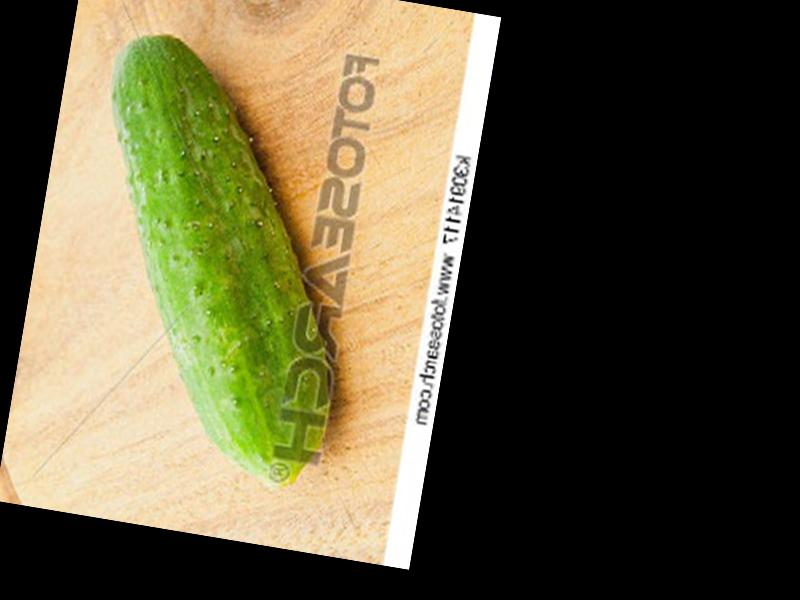Cucumber: (50, 26, 389, 495)
